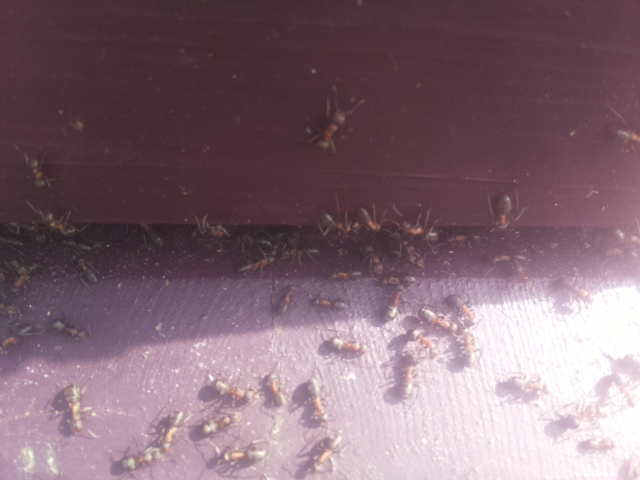ant: (12, 136, 57, 195), (185, 407, 247, 446), (310, 104, 355, 154), (200, 442, 267, 475), (198, 372, 261, 407), (108, 444, 167, 476), (59, 377, 89, 438), (309, 209, 368, 239), (413, 300, 461, 335), (153, 409, 190, 454), (32, 208, 81, 238), (487, 187, 518, 234), (304, 375, 331, 425), (328, 329, 370, 360), (45, 315, 91, 343), (68, 252, 103, 287), (307, 291, 354, 315), (261, 370, 289, 410), (315, 429, 342, 470), (394, 218, 439, 242), (381, 286, 406, 327), (446, 290, 476, 324), (454, 329, 479, 369), (397, 360, 419, 402), (352, 205, 385, 233), (276, 282, 300, 319), (576, 435, 617, 455), (411, 325, 435, 357), (608, 125, 640, 148), (363, 244, 383, 274), (404, 241, 424, 269), (0, 333, 15, 360)
